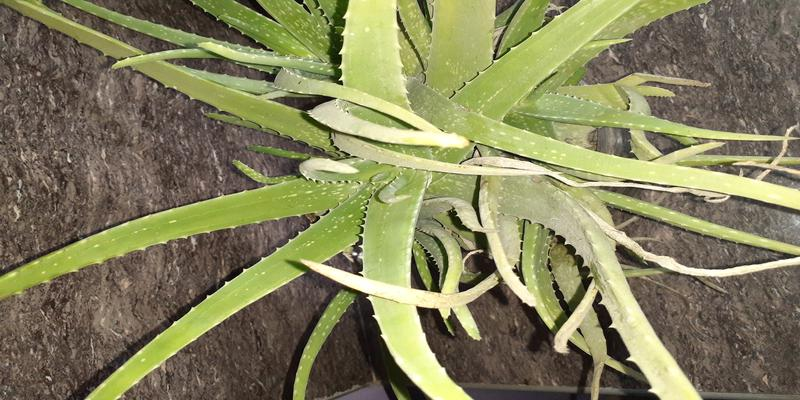Aloevera: (231, 13, 696, 341)
